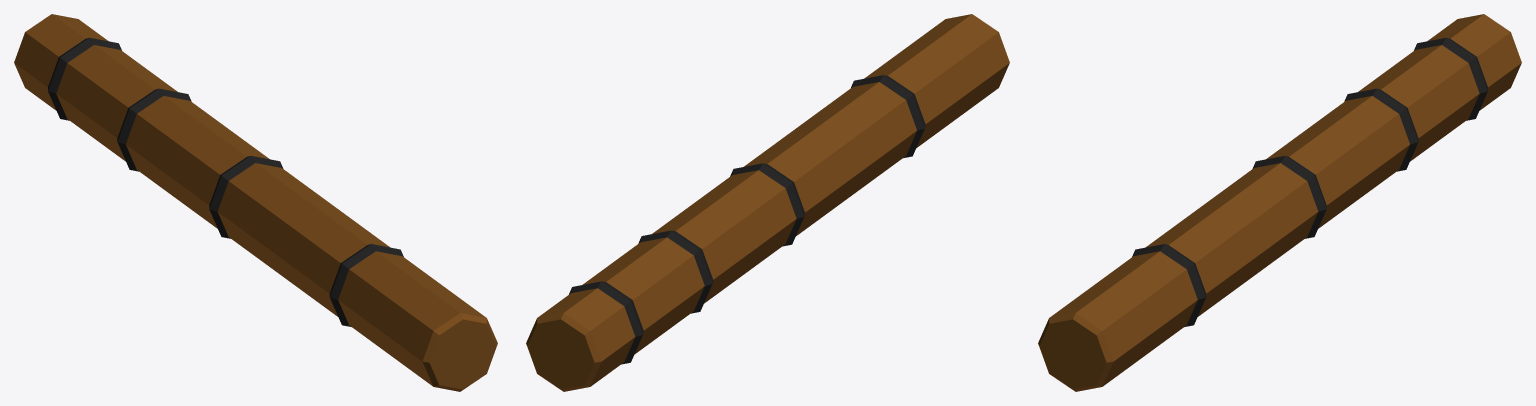
Rendered from Asian_Prop_Temple_Great_Bell_Bonshou_Ringer_01.FBX.
The picture shows the model from 3 angles, left to right: view 1: azimuth 30°, elevation 25°; view 2: azimuth 150°, elevation 25°; view 3: azimuth 330°, elevation 25°; orthographic projection.
Visible parts, largest first — view 1: Asian_Prop_Temple_Great_Bell_Bonshou_Ringer_01; view 2: Asian_Prop_Temple_Great_Bell_Bonshou_Ringer_01; view 3: Asian_Prop_Temple_Great_Bell_Bonshou_Ringer_01.
Boxes of the visible parts, x1,y1,x2,y2 form: Asian_Prop_Temple_Great_Bell_Bonshou_Ringer_01: (14, 14, 497, 391); Asian_Prop_Temple_Great_Bell_Bonshou_Ringer_01: (526, 14, 1009, 391); Asian_Prop_Temple_Great_Bell_Bonshou_Ringer_01: (1038, 14, 1521, 391).
Bounding box in the file's own units: 444 × 444 × 3838.
